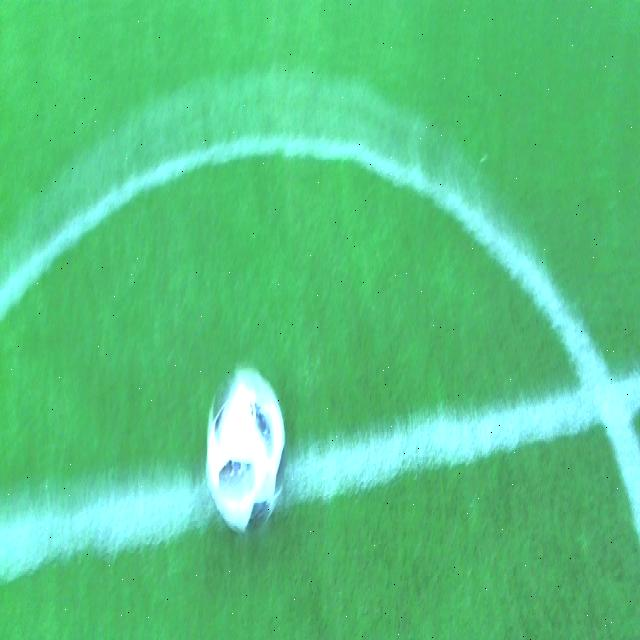ball: (203, 366, 289, 532)
